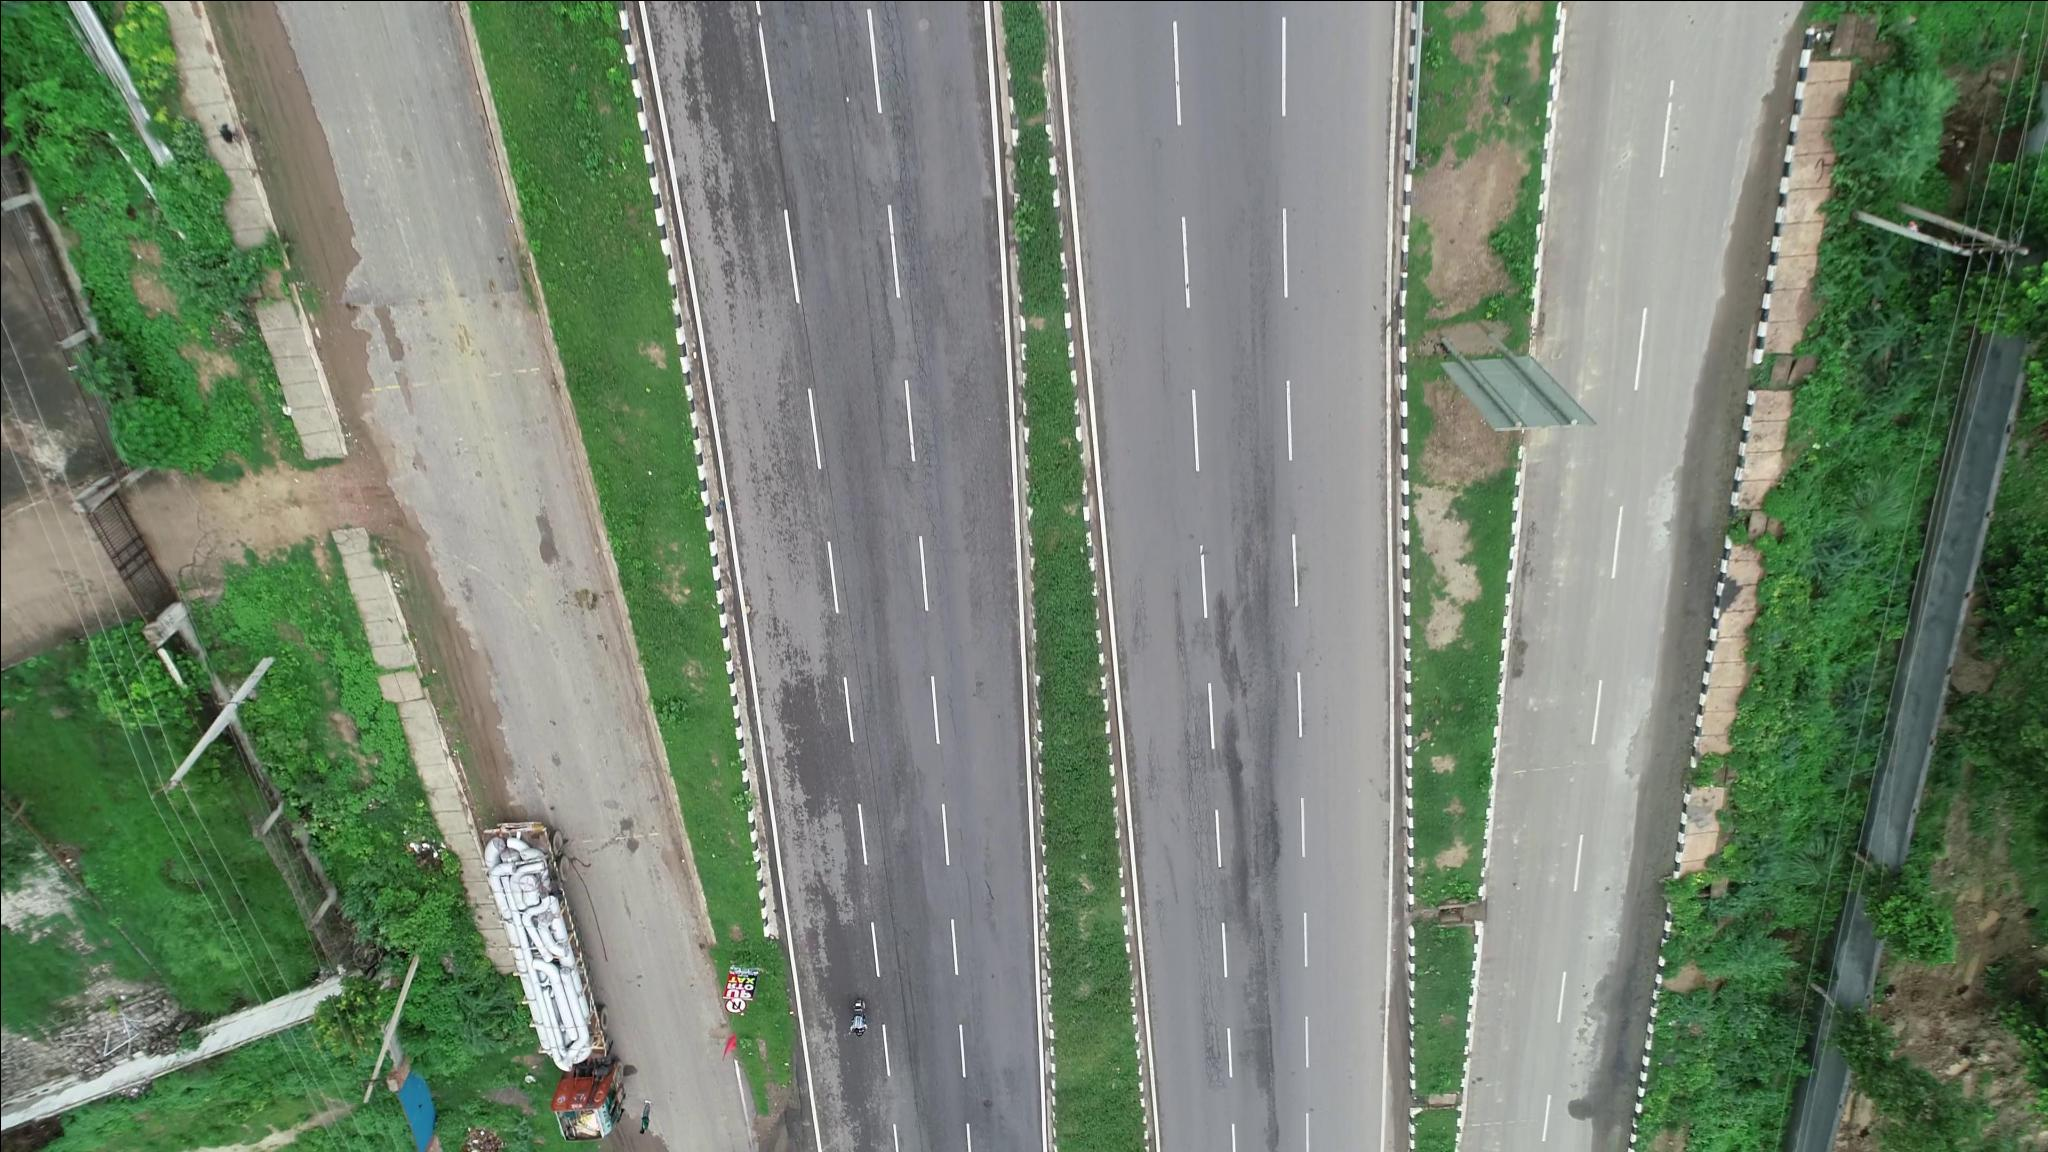Cracks: (873, 24, 949, 367), (896, 411, 956, 544), (1189, 883, 1225, 1096), (1175, 722, 1218, 864)
Ravelling: (1214, 612, 1288, 881), (1234, 909, 1298, 1122)
